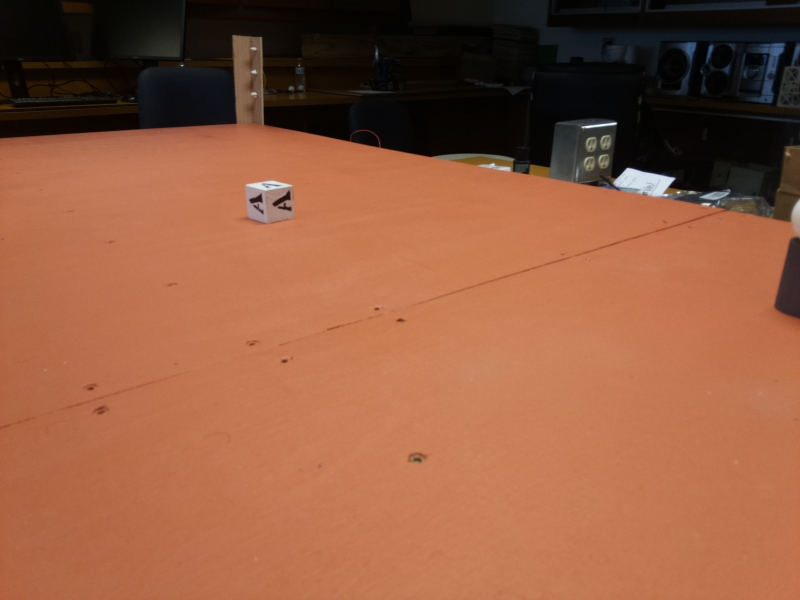blockA: (243, 176, 293, 229)
corner: (234, 35, 267, 124)
